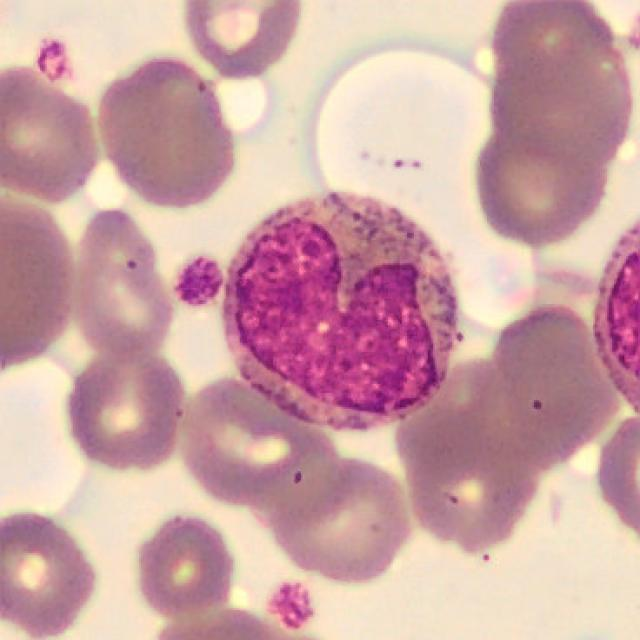Metamielocito: (221, 188, 464, 434)
